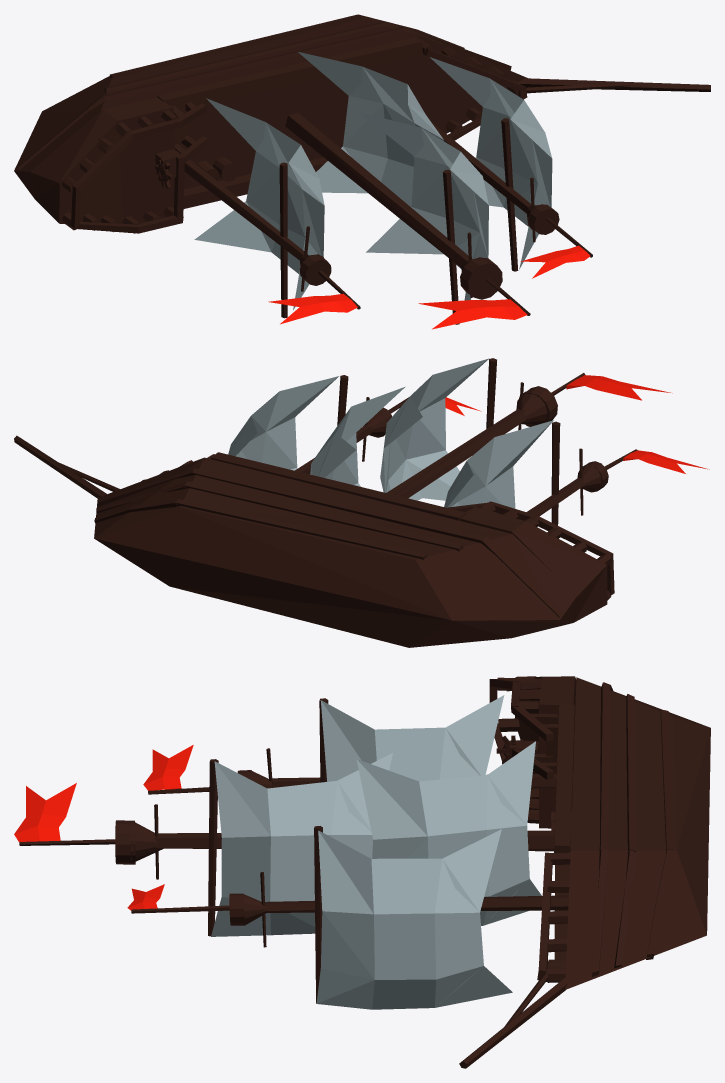
Rendered from boat2.obj.
3 renders of one model, top to bottom at view 1: azimuth 30°, elevation 25°; view 2: azimuth 150°, elevation 25°; view 3: azimuth 270°, elevation 25°, orthographic. The views are drawn at different scales.
Parts seen in each view (by area): view 1: group453468901, group1405879287, group579647899, group1305800535, group901971529, group332277712, group1013079638, group518660052, group1973139189, group2128913359, group787372689, group249967775 (+17 smaller); view 2: group453468901, group901971529, group1405879287, group332277712, group579647899, group1305800535, group1013079638, group518660052, group2128913359, group1253275527, group1169990326, group1973139189 (+11 smaller); view 3: group453468901, group332277712, group901971529, group1305800535, group579647899, group1013079638, group1405879287, group249967775, group160643830, group2128913359, group518660052, group1253275527 (+14 smaller).
Boxes of the visible parts, x1,y1,x2,y2 form: group453468901: (14,19,527,198); group1405879287: (31,97,174,223); group579647899: (194,98,324,310); group1305800535: (298,52,444,207); group901971529: (358,112,488,300); group332277712: (430,57,552,269); group1013079638: (157,37,422,109); group518660052: (285,113,472,267); group1973139189: (71,118,183,233); group2128913359: (103,27,404,101); group787372689: (184,159,308,260); group249967775: (418,299,527,329); group453468901: (94,457,576,647); group901971529: (380,358,489,500); group1405879287: (460,506,607,622); group332277712: (228,376,338,470); group579647899: (444,420,553,508); group1305800535: (310,386,405,486); group1013079638: (211,452,466,520); group518660052: (386,408,525,498); group2128913359: (193,468,486,543); group1253275527: (184,481,463,551); group1169990326: (176,499,427,560); group1973139189: (490,501,614,595); group453468901: (565,677,710,989); group332277712: (316,829,512,1009); group901971529: (211,753,392,936); group1305800535: (356,741,541,925); group579647899: (320,695,504,781); group1013079638: (554,703,574,852); group1405879287: (515,676,576,828); group249967775: (14,783,76,841); group160643830: (265,895,568,912); group2128913359: (599,683,610,852); group518660052: (154,830,571,851); group1253275527: (626,694,636,853).
Size of the model in its own units: 2.51 by 0.6746 by 2.17.
